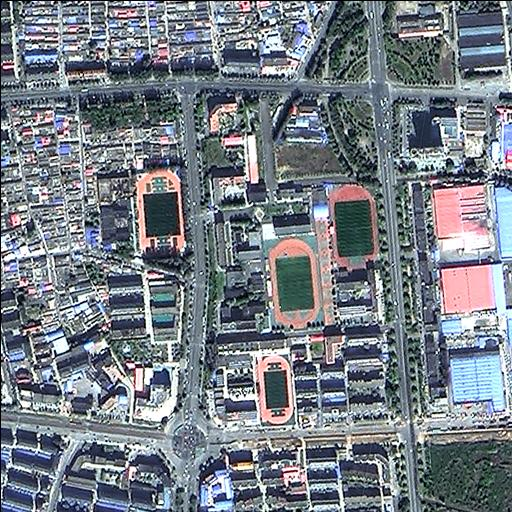school: (325, 173, 391, 327), (93, 165, 191, 265), (205, 336, 296, 431)
